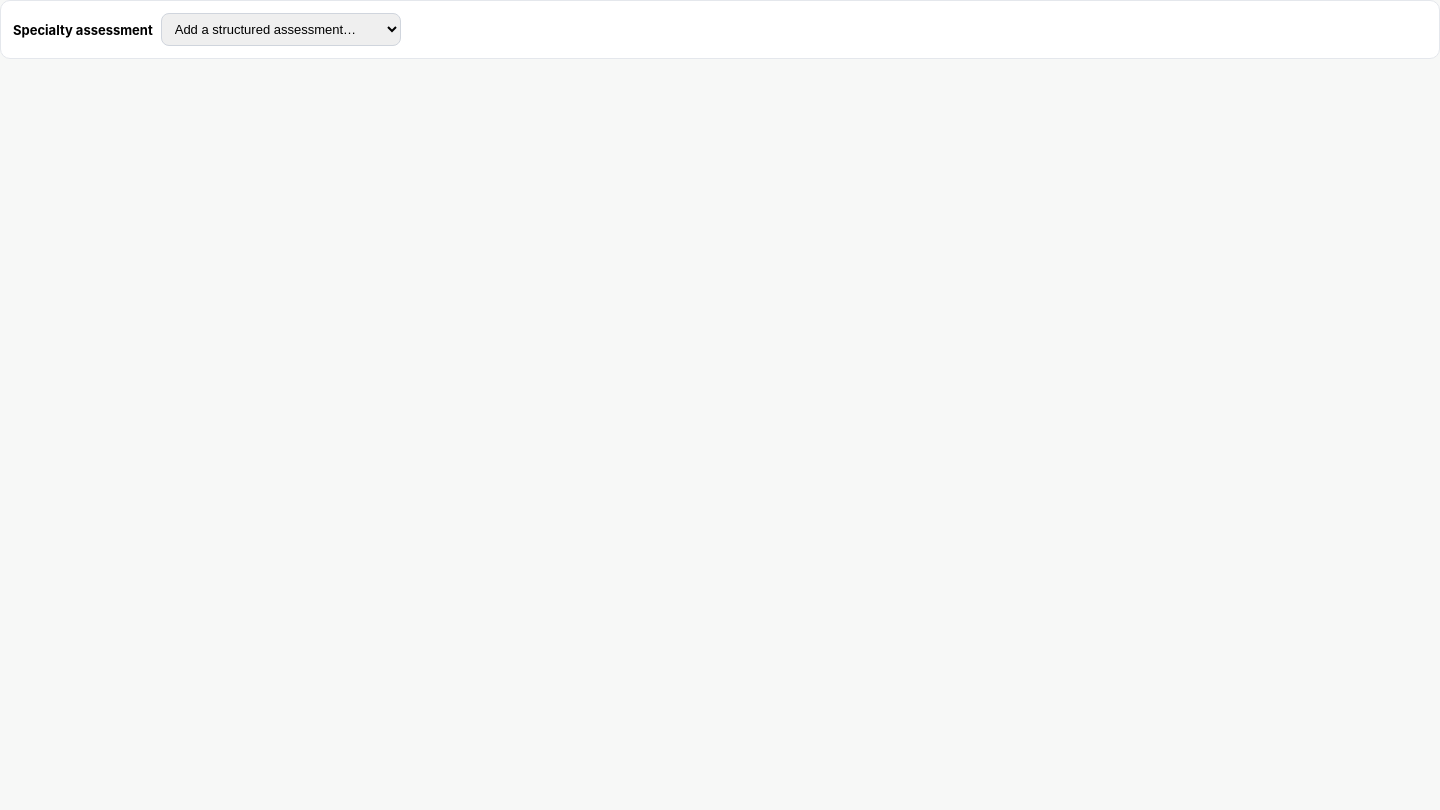
it: specialty assessment panel › other clinics can add a template; the dental chart cycles tooth status and counts DMFT
Select "Dental examination" in the dropdown named "Specialty template": (281, 30) [161, 13, 401, 46]
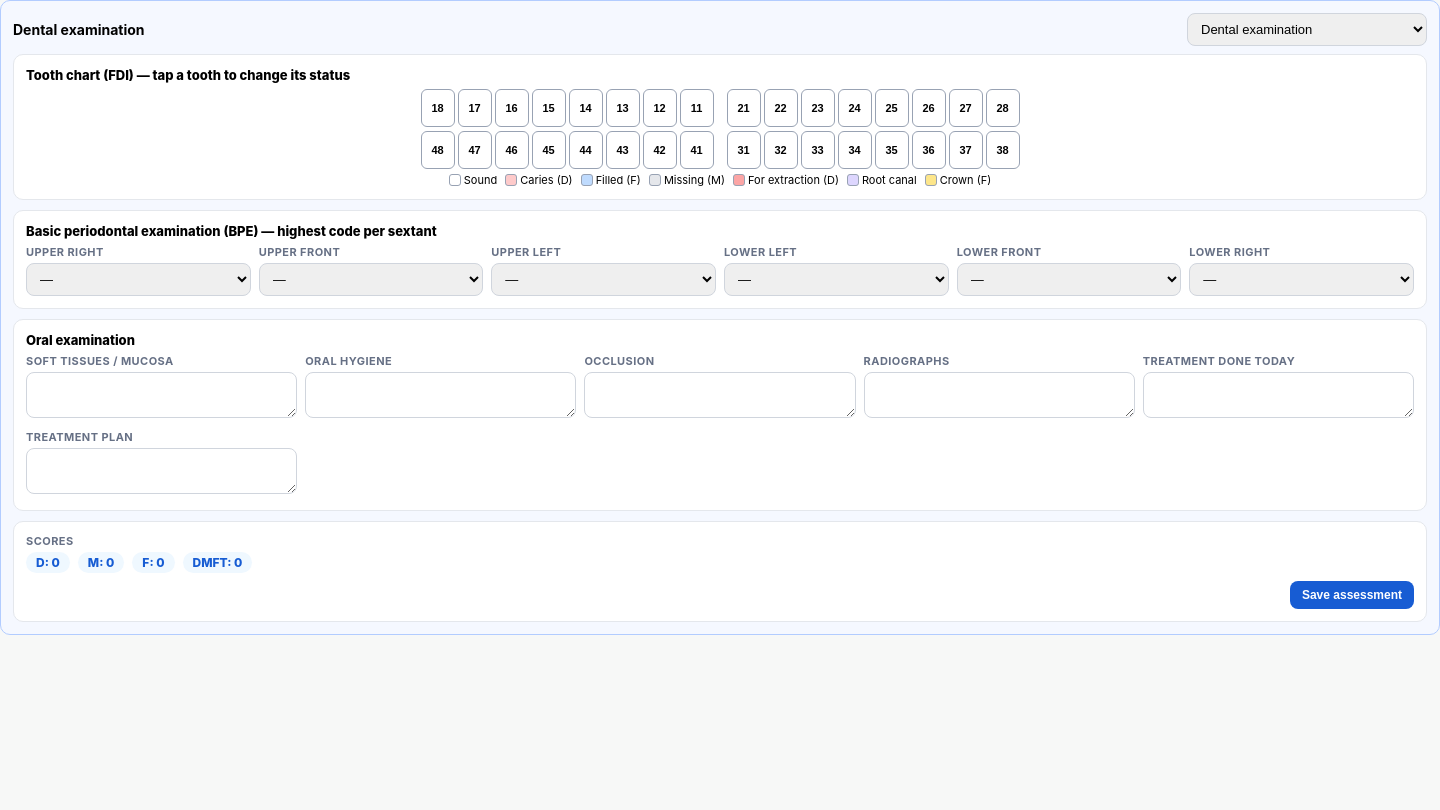
Click the button named "Tooth 36: Sound": (928, 150) [912, 131, 946, 169]
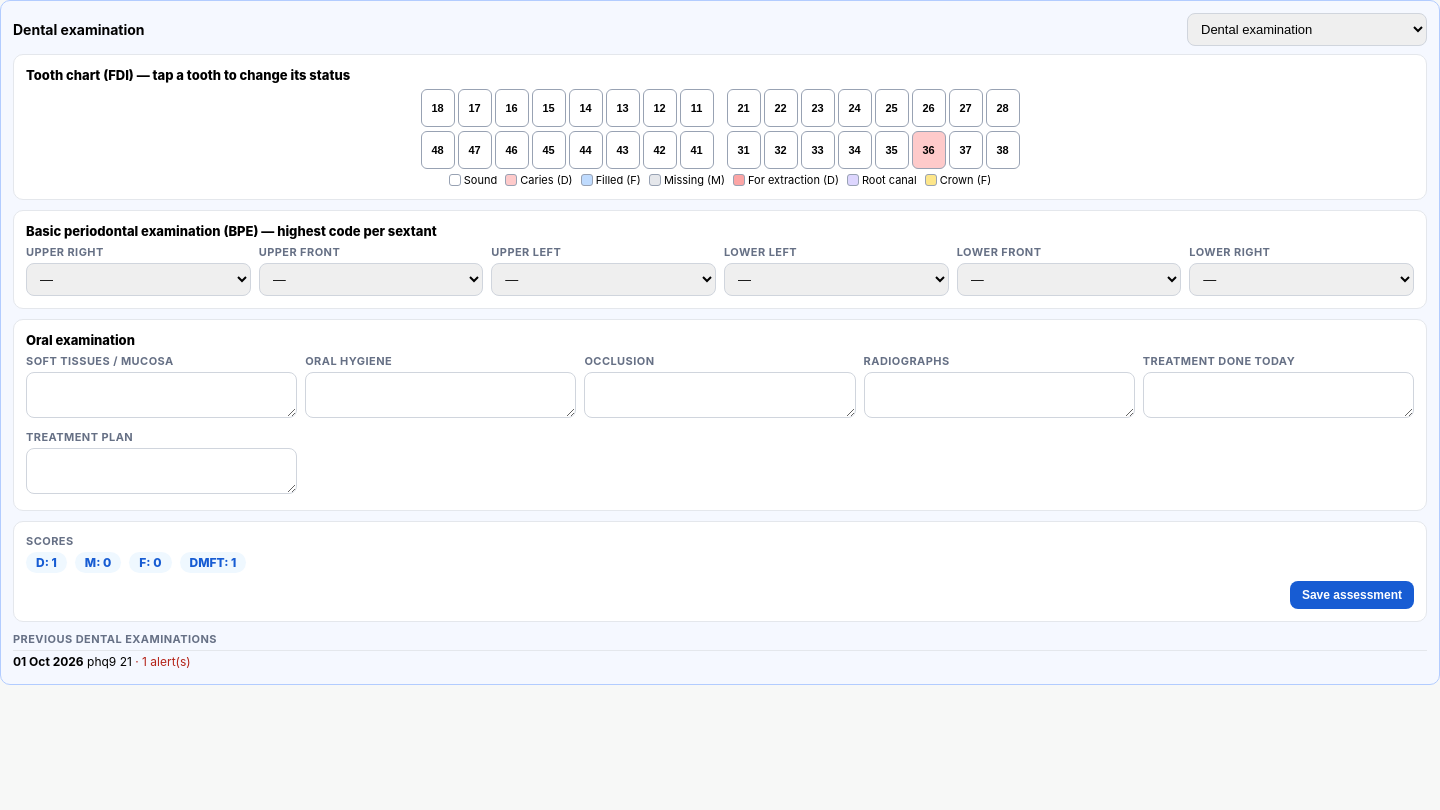
Now the button named "Tooth 36: Caries (D)" is shown, box [912, 131, 946, 169]
Now the text "DMFT: 1" is shown, box [180, 552, 246, 573]
